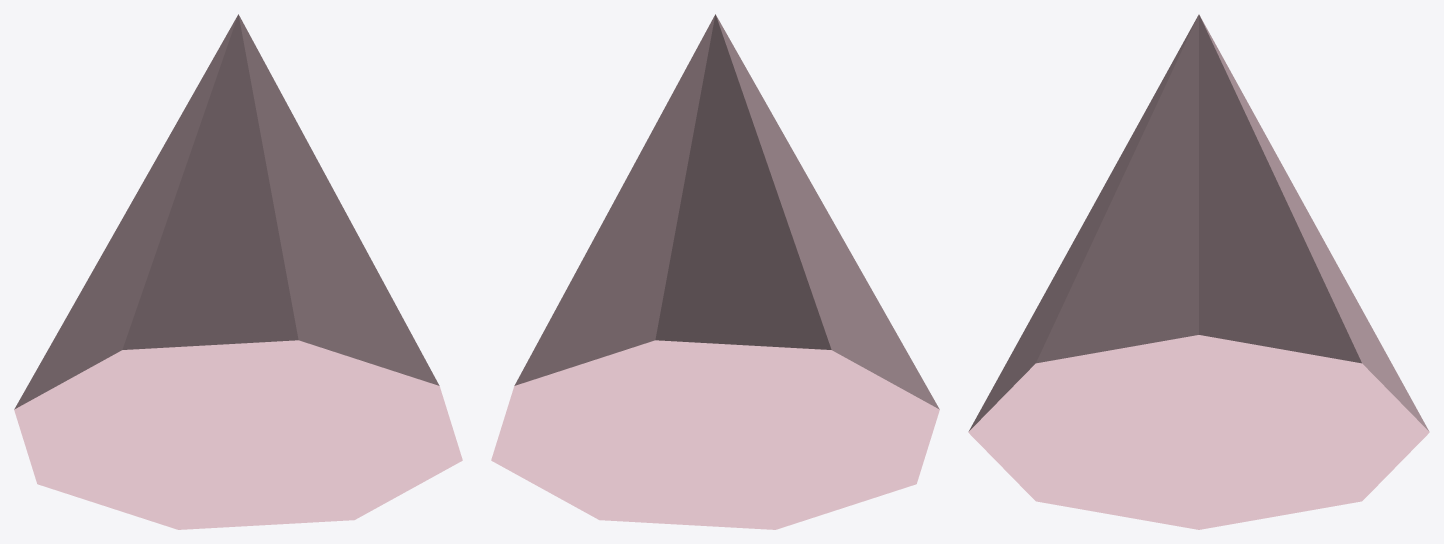
Rendered from tree_sakura_01.glb.
3 views of the same model, side by side, from view 1: azimuth 30°, elevation 25°; view 2: azimuth 150°, elevation 25°; view 3: azimuth 270°, elevation 25° (orthographic).
Visible parts, largest first — view 1: 樱花树; view 2: 樱花树; view 3: 樱花树.
Boxes of the visible parts, x1=… form: 樱花树: x1=14, y1=14, x2=462, y2=529; 樱花树: x1=491, y1=14, x2=939, y2=529; 樱花树: x1=968, y1=14, x2=1429, y2=529.
Bounding box in the file's own units: 1 × 1 × 1.
